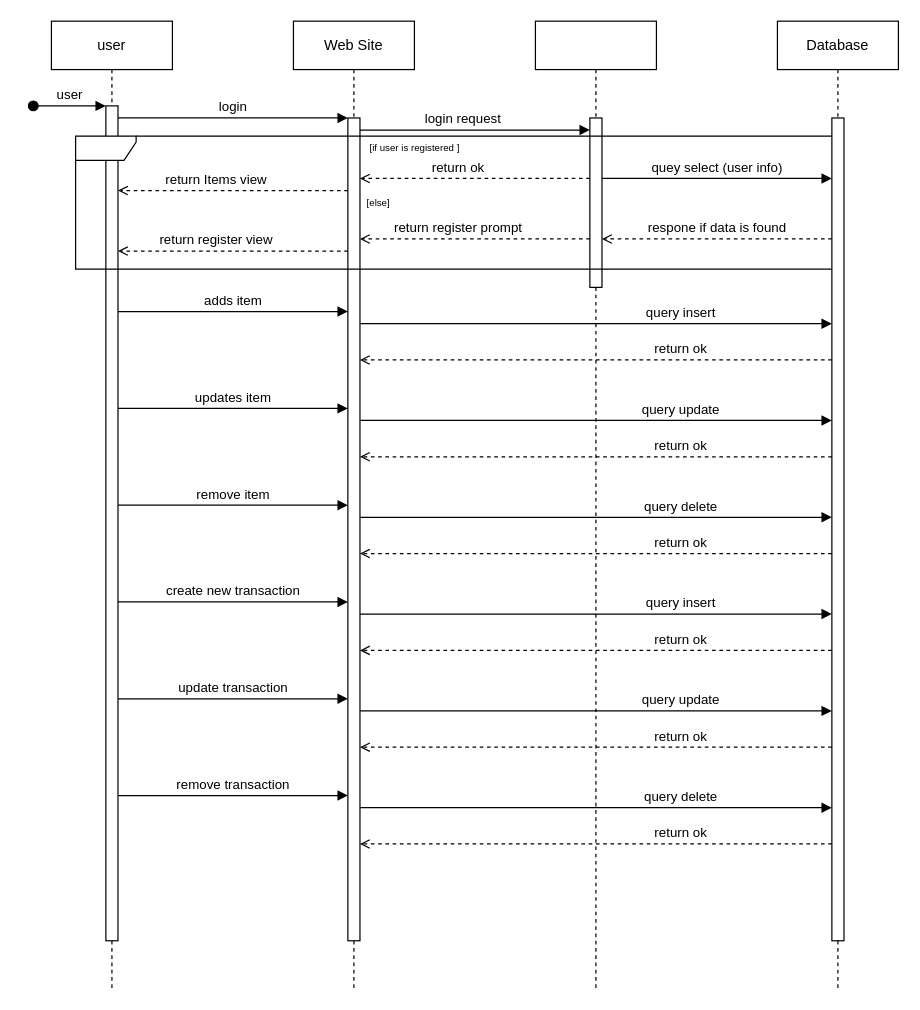
Image size: 920x1010. Some labels were removed from this diagram. The box of each missing label's shape, as (x1, y1, x2, y2) in pixels:
Alt: (74, 135, 838, 269)
Authentication: (534, 20, 656, 989)
